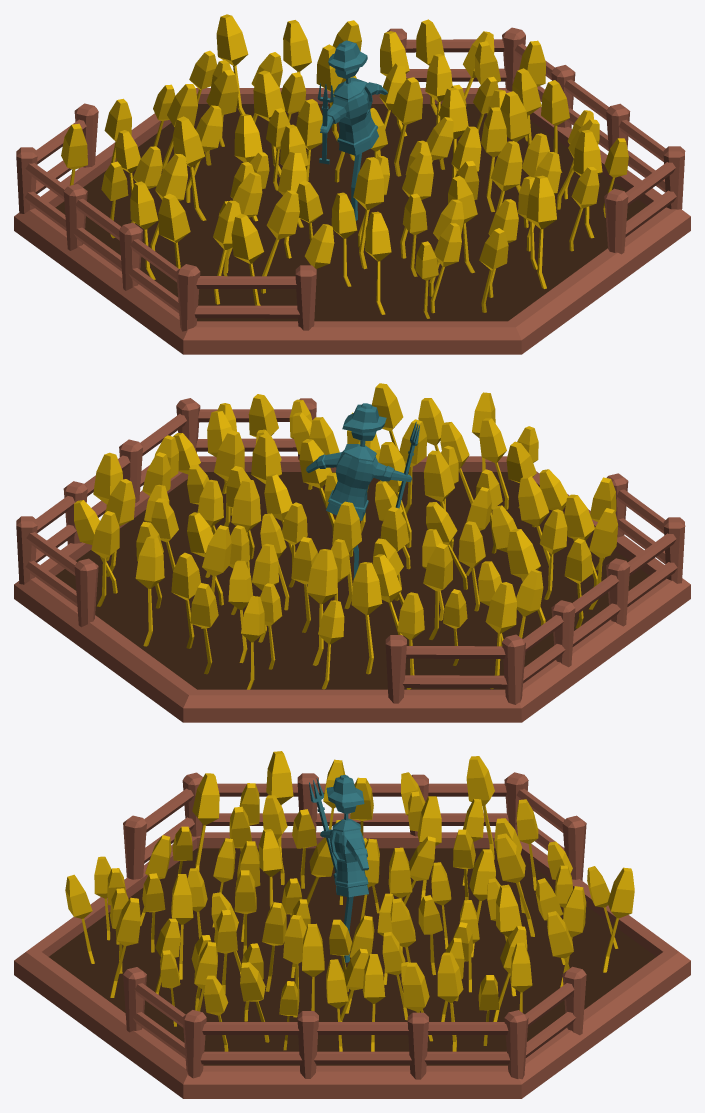
Rendered from Hex_flat_Farm.fbx.
3 views of the same model, one above another, from view 1: azimuth 30°, elevation 25°; view 2: azimuth 150°, elevation 25°; view 3: azimuth 270°, elevation 25° (orthographic).
Visible parts, largest first — view 1: Hex_flat_Farm; view 2: Hex_flat_Farm; view 3: Hex_flat_Farm.
Part boxes in pixels (x1,y1,x2,y2): Hex_flat_Farm: (14, 14, 690, 354); Hex_flat_Farm: (14, 383, 690, 722); Hex_flat_Farm: (14, 751, 690, 1098).
Size of the model in its own units: 0.8665 by 0.347 by 1.
